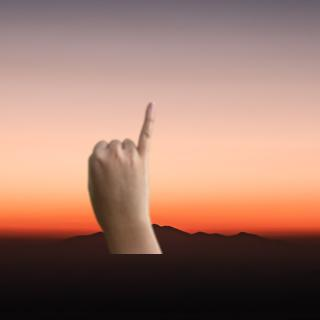Fine: (81, 99, 167, 253)
